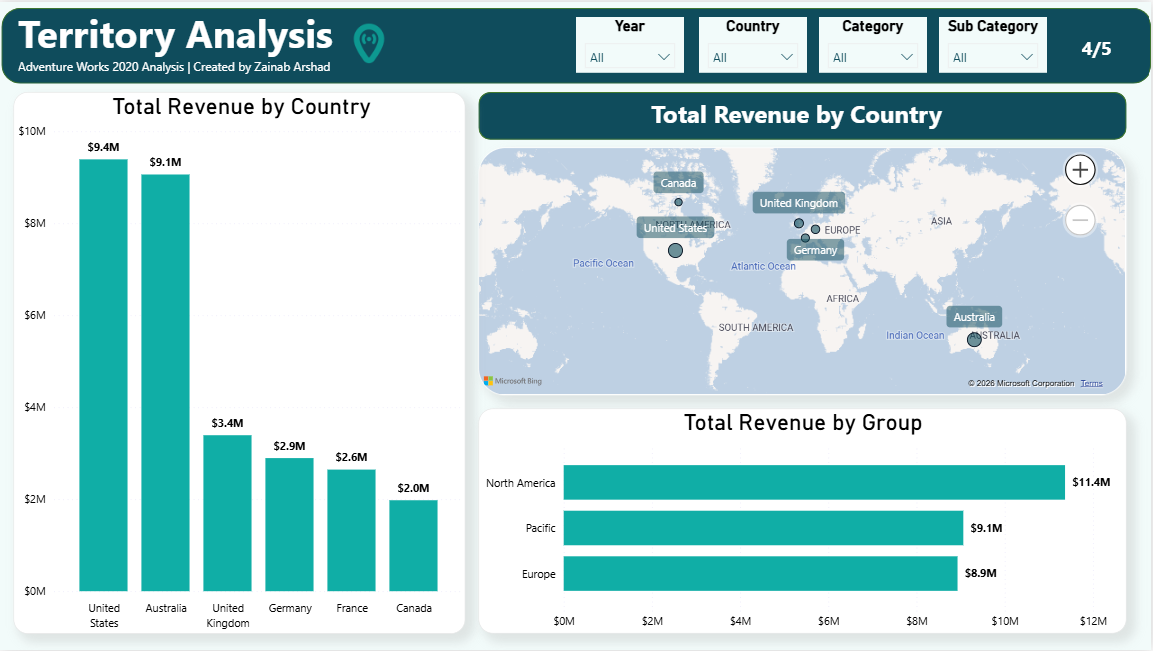

This screenshot's page, from the dashboard's own definition file:
{"tool":"powerbi","page":{"name":"Territory","canvas":[1280,720],"ordinal":3},"visuals":[{"type":"shape","box":[531.7,100,720,53],"z":0},{"type":"map","fields":{"Category":["Territory.Country"],"Size":["Sales.Total Revenue"]},"box":[531.7,161.7,720,275],"z":1000},{"type":"clusteredColumnChart","fields":{"Y":["Sales.Total Revenue"],"Category":["Territory.Country"]},"box":[15,100,501.7,601.7],"z":2000},{"type":"clusteredBarChart","fields":{"Category":["Territory.Group"],"Y":["Sales.Total Revenue"]},"box":[531.7,451.7,720,250],"z":3000},{"type":"shape","box":[1,7,1278.3,84],"z":4000},{"type":"slicer","title":"Year","fields":{"Values":["Calendar.CalendarYear"]},"box":[640,16.7,120,61.7],"z":5000},{"type":"slicer","title":"Sub Category","fields":{"Values":["Products.SubCategory"]},"box":[1043.3,16.7,120,61.7],"z":6000},{"type":"slicer","title":"Category","fields":{"Values":["Products.Category"]},"box":[910,16.7,120,61.7],"z":7000},{"type":"slicer","title":"Country","fields":{"Values":["Territory.Country"]},"box":[776.7,16.7,120,61.7],"z":8000},{"type":"textbox","box":[15,0,636.7,90],"z":9000},{"type":"textbox","box":[1196,30,84,48],"z":10000},{"type":"image","box":[375,16.7,70,58.3],"z":11000},{"type":"textbox","box":[531.7,100,706.7,61.7],"z":12000}]}

Visuals, with their boxes in screenshot pixels (x1, y1, x2, y2), scaled from the page's 1280x720 canvas onto the 1153x651 screenshot:
shape: pyautogui.locateOnScreen(479, 90, 1128, 138)
map - Territory.Country x Sales.Total Revenue: pyautogui.locateOnScreen(479, 146, 1128, 395)
clusteredColumnChart - Sales.Total Revenue x Territory.Country: pyautogui.locateOnScreen(14, 90, 465, 634)
clusteredBarChart - Territory.Group x Sales.Total Revenue: pyautogui.locateOnScreen(479, 408, 1128, 634)
shape: pyautogui.locateOnScreen(1, 6, 1152, 82)
"Year" slicer: pyautogui.locateOnScreen(576, 15, 685, 71)
"Sub Category" slicer: pyautogui.locateOnScreen(940, 15, 1048, 71)
"Category" slicer: pyautogui.locateOnScreen(820, 15, 928, 71)
"Country" slicer: pyautogui.locateOnScreen(700, 15, 808, 71)
textbox: pyautogui.locateOnScreen(14, 0, 587, 81)
textbox: pyautogui.locateOnScreen(1077, 27, 1152, 71)
image: pyautogui.locateOnScreen(338, 15, 401, 68)
textbox: pyautogui.locateOnScreen(479, 90, 1116, 146)
